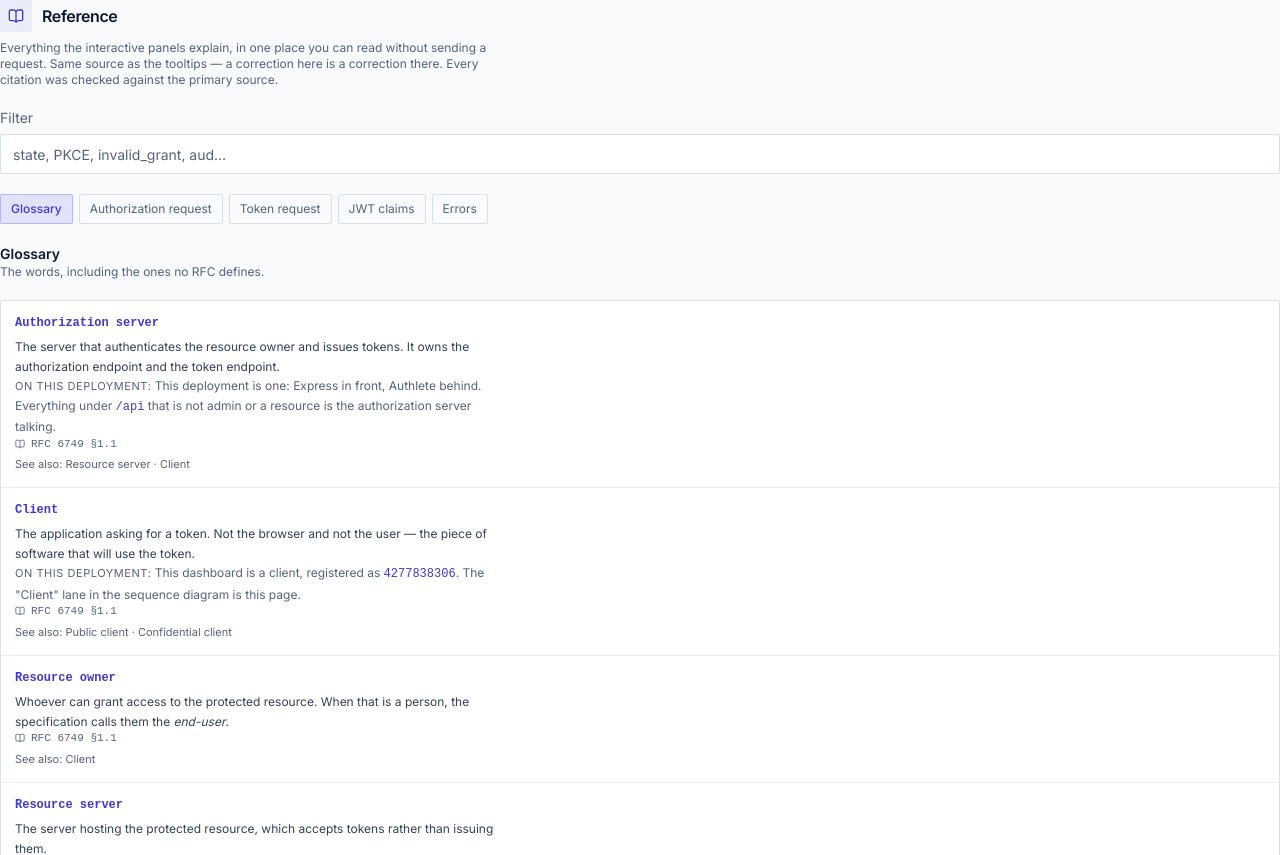
ReferencePage › lists the vendor codes as reproduced here rather than read from a document
The image size is (1280, 855).
Click the button "Errors": coordinates (460, 209) [432,194,488,224]
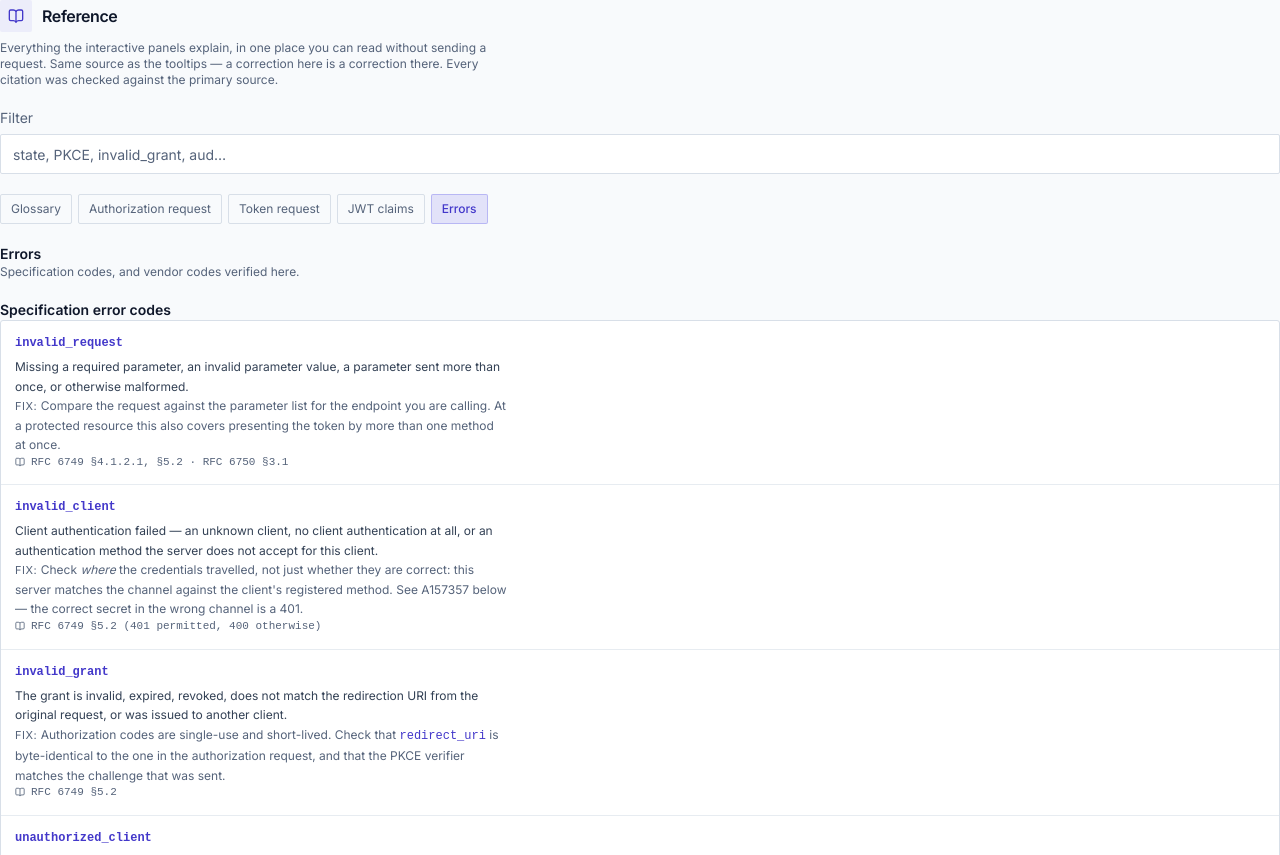
Result: the heading "invalid_grant" is shown at [15,664,109,680]
